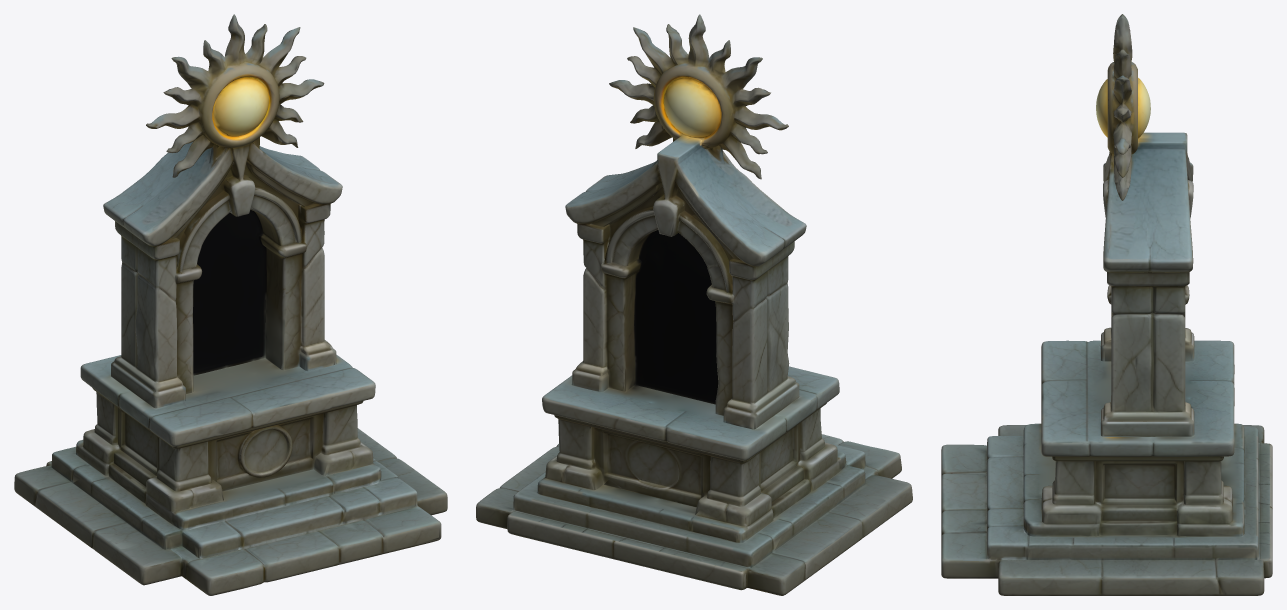
The model's file is SunShrine.glb.
The picture shows the model from 3 angles, left to right: view 1: azimuth 30°, elevation 25°; view 2: azimuth 150°, elevation 25°; view 3: azimuth 270°, elevation 25°; orthographic projection. The views are drawn at different scales.
Parts seen in each view (by area): view 1: node_0; view 2: node_0; view 3: node_0.
Part boxes in pixels (x1,y1,x2,y2): node_0: (14, 14, 447, 595); node_0: (476, 14, 912, 595); node_0: (941, 14, 1272, 595).
Size of the model in its own units: 0.5985 by 0.917 by 0.5461.
1 material, 1 textured.
